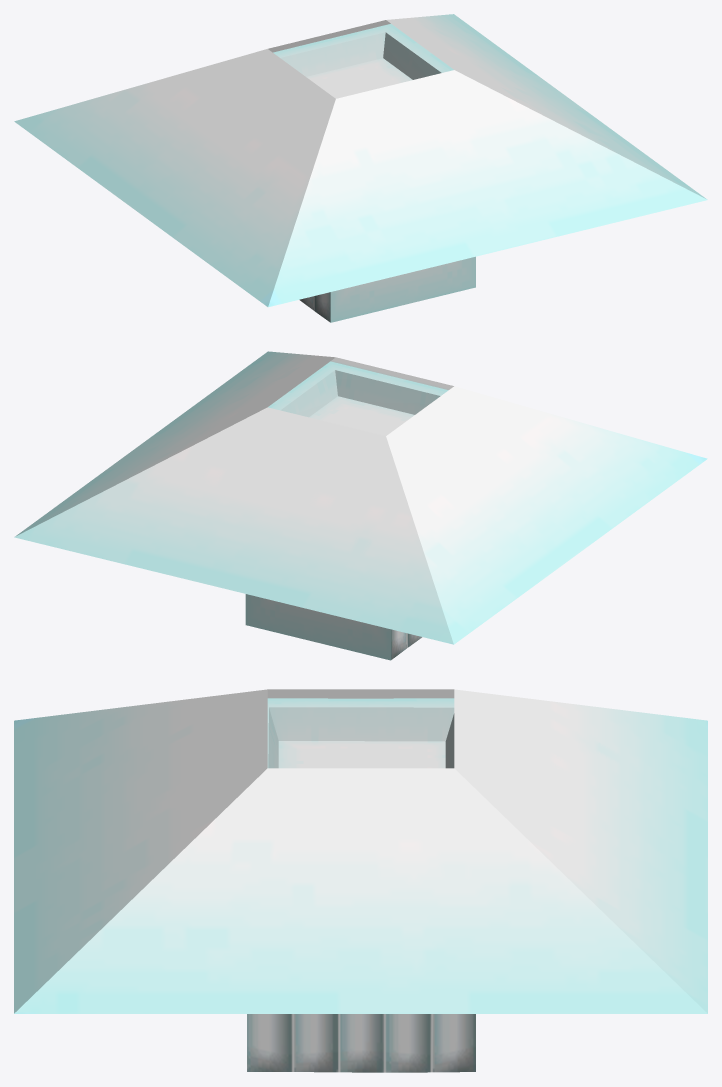
The model's file is frn_all_streetlamp_sm_s1_l1.fbx.
3 renders of one model, top to bottom at view 1: azimuth 30°, elevation 25°; view 2: azimuth 150°, elevation 25°; view 3: azimuth 270°, elevation 25°, orthographic. The views are drawn at different scales.
Visible parts, largest first — view 1: mesh_node; view 2: mesh_node; view 3: mesh_node.
Boxes of the visible parts, bbox=[...] form: mesh_node: bbox=[14, 14, 707, 322]; mesh_node: bbox=[14, 351, 707, 660]; mesh_node: bbox=[14, 689, 707, 1072].
Bounding box in the file's own units: 4.54 × 2.13 × 4.54.
